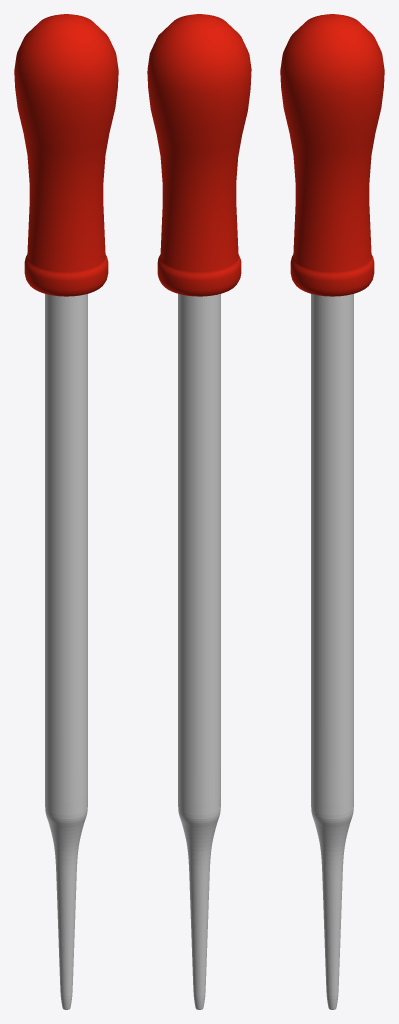
Rendered from glassDropperFBX.fbx.
The picture shows the model from 3 angles, left to right: view 1: azimuth 90°, elevation 25°; view 2: azimuth 150°, elevation 25°; view 3: azimuth 270°, elevation 25°; orthographic projection.
Visible parts, largest first — view 1: dropper, rubber_head; view 2: dropper, rubber_head; view 3: dropper, rubber_head.
Part boxes in pixels (x1=…): dropper: x1=45, y1=294, x2=87, y2=1009; rubber_head: x1=14, y1=14, x2=118, y2=296; dropper: x1=178, y1=294, x2=220, y2=1009; rubber_head: x1=147, y1=14, x2=251, y2=296; dropper: x1=311, y1=294, x2=353, y2=1009; rubber_head: x1=280, y1=14, x2=384, y2=296.
Bounding box in the file's own units: 12.05 × 126 × 12.05.
